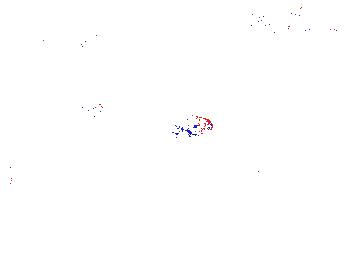X-ray fish: (1, 156, 60, 193)
red belly glassfish: (174, 115, 214, 137), (76, 97, 108, 120)
redtail glassfish: (34, 32, 86, 56)
